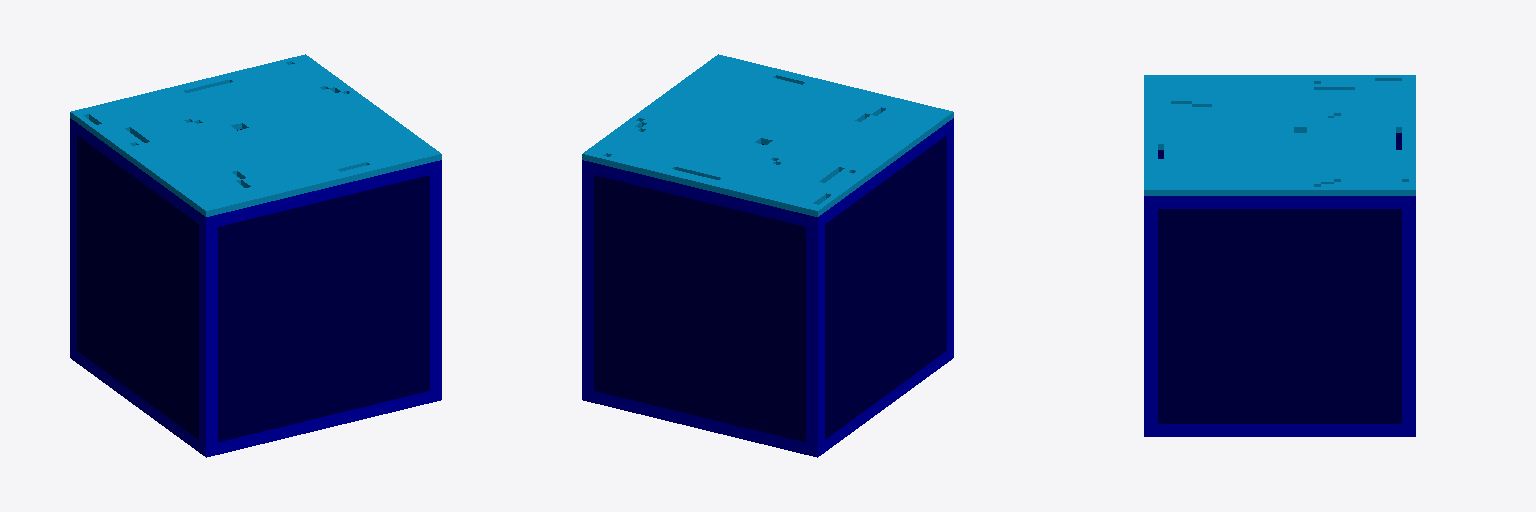
3 views of the same model, side by side, from view 1: azimuth 30°, elevation 25°; view 2: azimuth 150°, elevation 25°; view 3: azimuth 270°, elevation 25° (orthographic).
Visible parts, largest first — view 1: object 1; view 2: object 1; view 3: object 1.
Part boxes in pixels (left/top/right/bottom): object 1: left=70, top=54, right=441, bottom=457; object 1: left=582, top=54, right=953, bottom=457; object 1: left=1144, top=75, right=1415, bottom=436.
Bounding box in the file's own units: 4 × 4 × 4.
Materials: 1 (1 with a texture image).